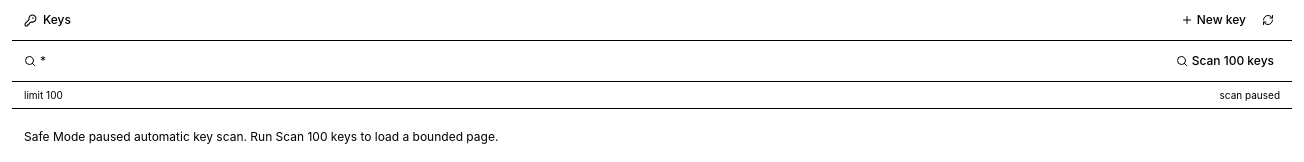
Scenario: KvSidebar › labels Valkey key browsing (parity #1075)
The width and height of the screenshot is (1304, 162).
Step 1. Click the button "Scan 100 keys" → [1225, 61], box [1170,49,1280,73]
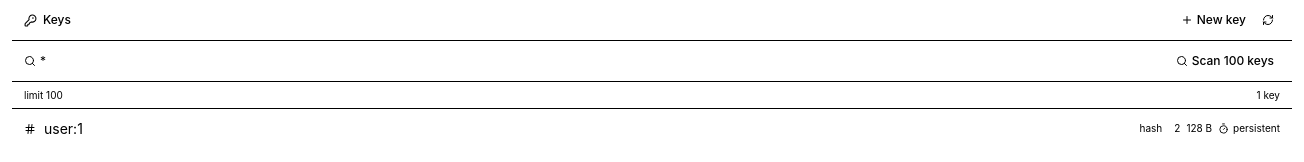
Expected: the list item "user:1 hash 2 128 B persistent" is shown, [12,113,1292,145]
